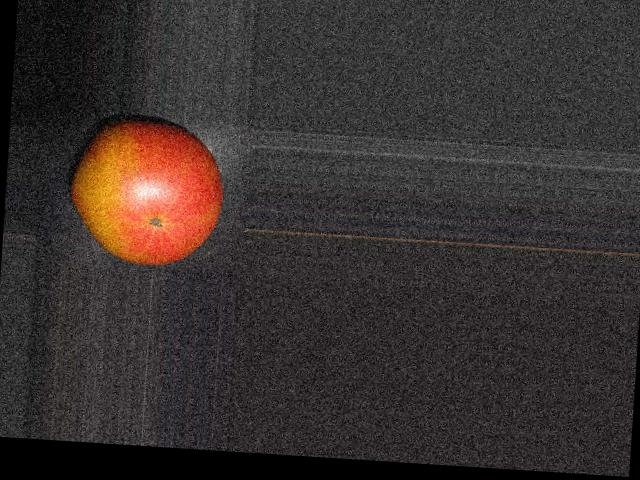tomato: (68, 115, 226, 269)
